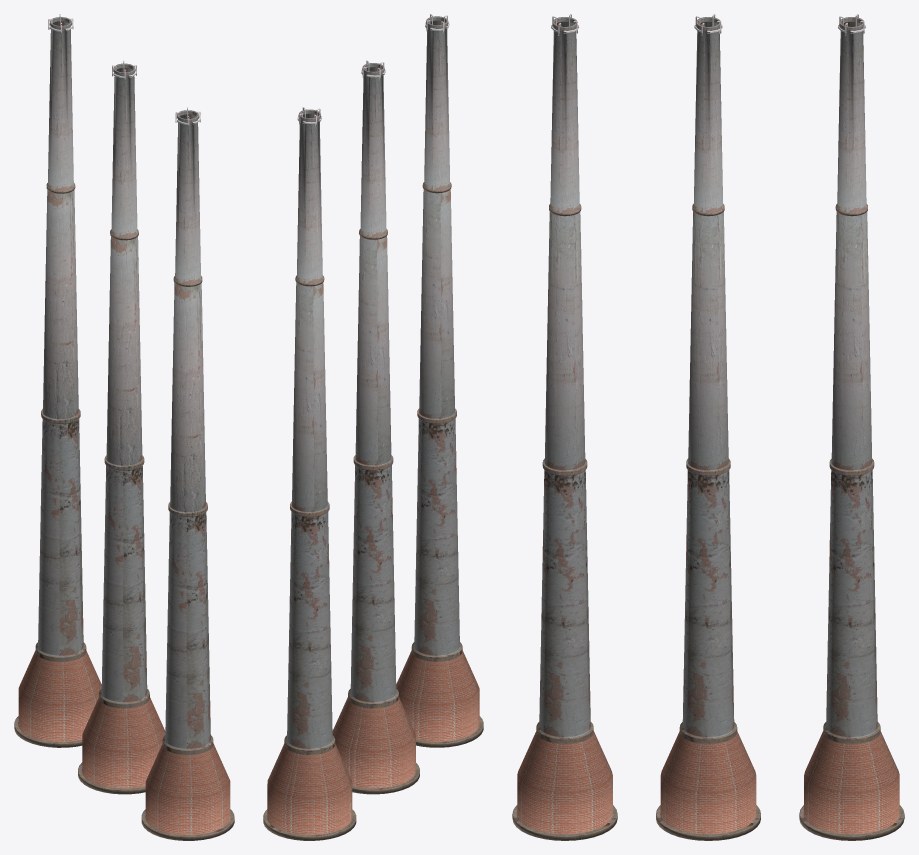
File: chimenea.glb
3 views of the same model, side by side, from view 1: azimuth 30°, elevation 25°; view 2: azimuth 150°, elevation 25°; view 3: azimuth 270°, elevation 25° (orthographic). The views are drawn at different scales.
Parts seen in each view (by area): view 1: Object_3, Object_2, Object_4, Object_5; view 2: Object_3, Object_2, Object_4, Object_5; view 3: Object_3, Object_2, Object_4.
Boxes of the visible parts, x1=… form: Object_3: x1=38, y1=17, x2=210, y2=749; Object_2: x1=18, y1=650, x2=230, y2=835; Object_4: x1=14, y1=28, x2=234, y2=840; Object_5: x1=48, y1=14, x2=200, y2=127; Object_3: x1=287, y1=16, x2=459, y2=749; Object_2: x1=267, y1=651, x2=479, y2=834; Object_4: x1=263, y1=27, x2=483, y2=840; Object_5: x1=297, y1=14, x2=449, y2=126; Object_3: x1=539, y1=17, x2=877, y2=737; Object_2: x1=517, y1=731, x2=899, y2=834; Object_4: x1=512, y1=26, x2=904, y2=840.
Size of the model in its own units: 2.2 by 18.45 by 8.2.
5 materials, 3 textured.
